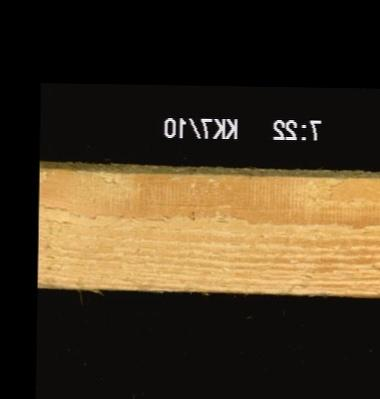split: (128, 193, 239, 208)
